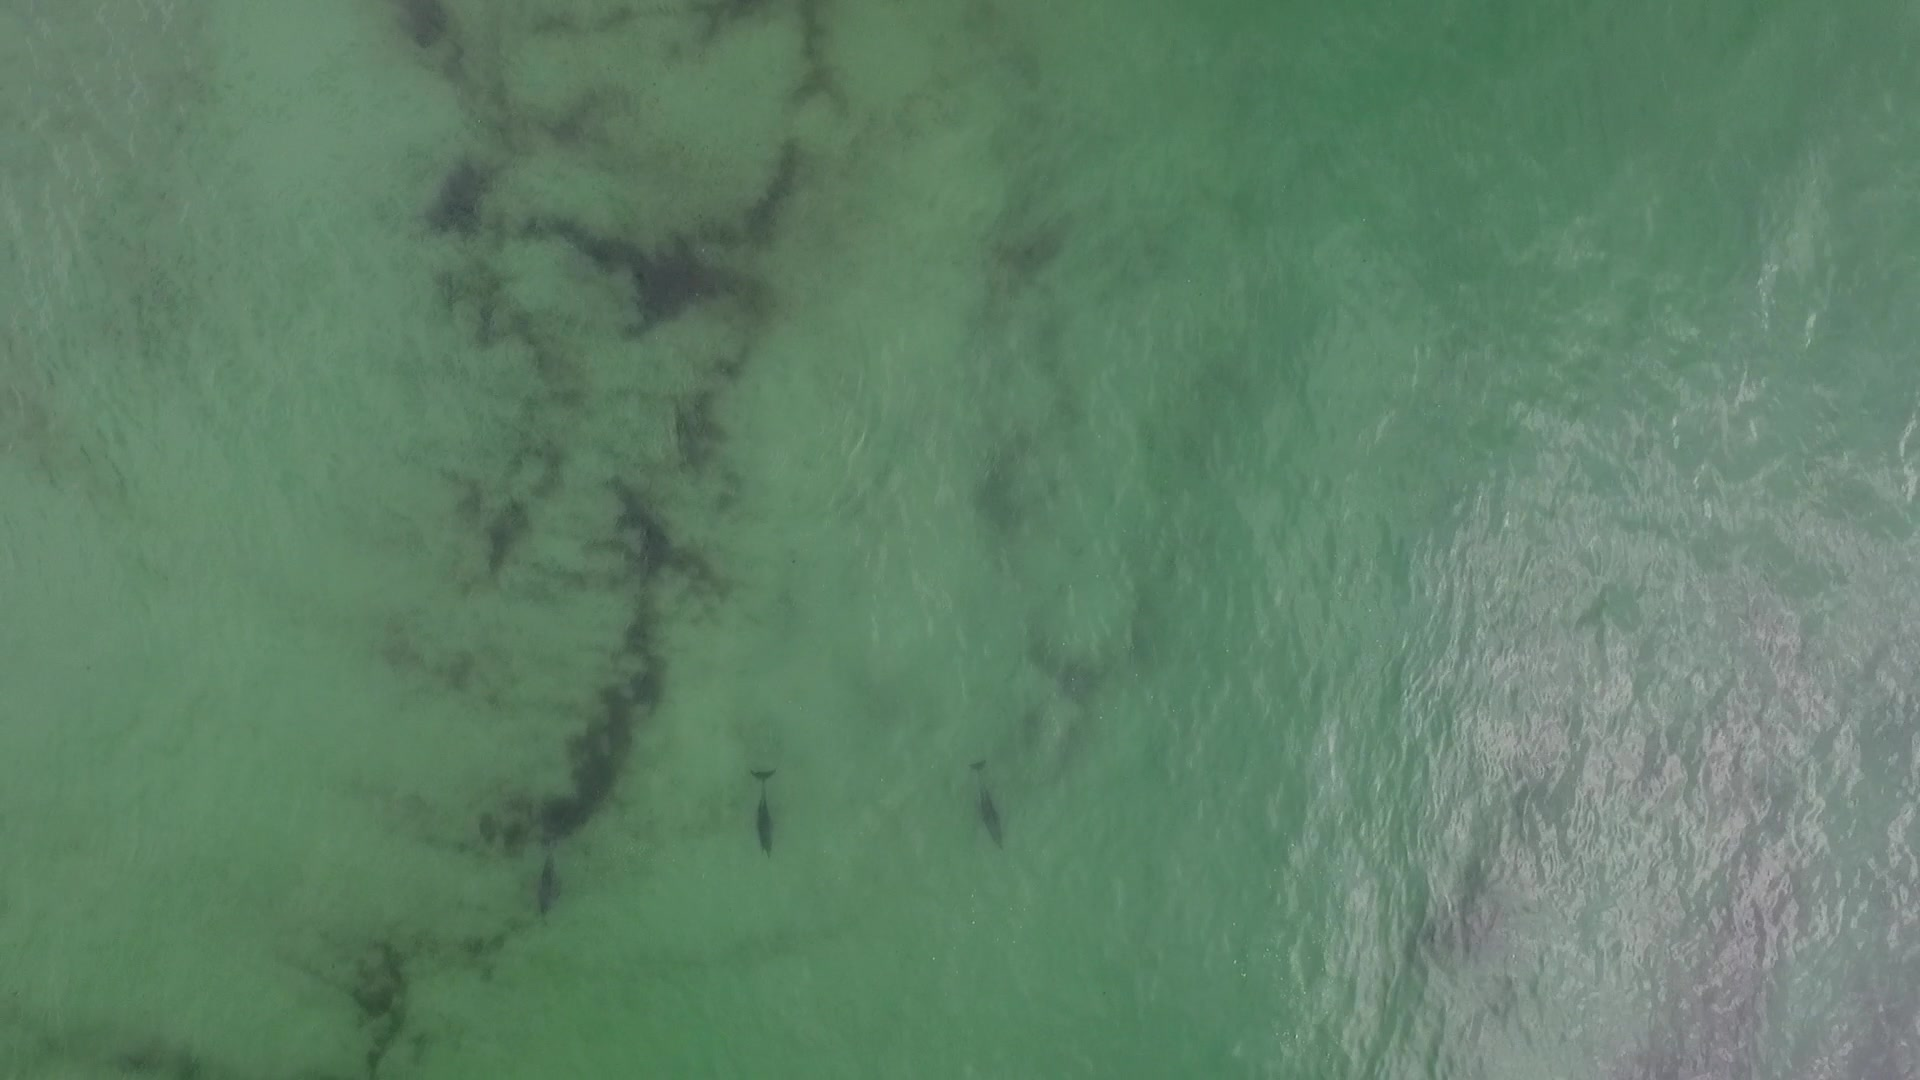dolphin: (731, 752, 802, 878), (944, 742, 1019, 855)
